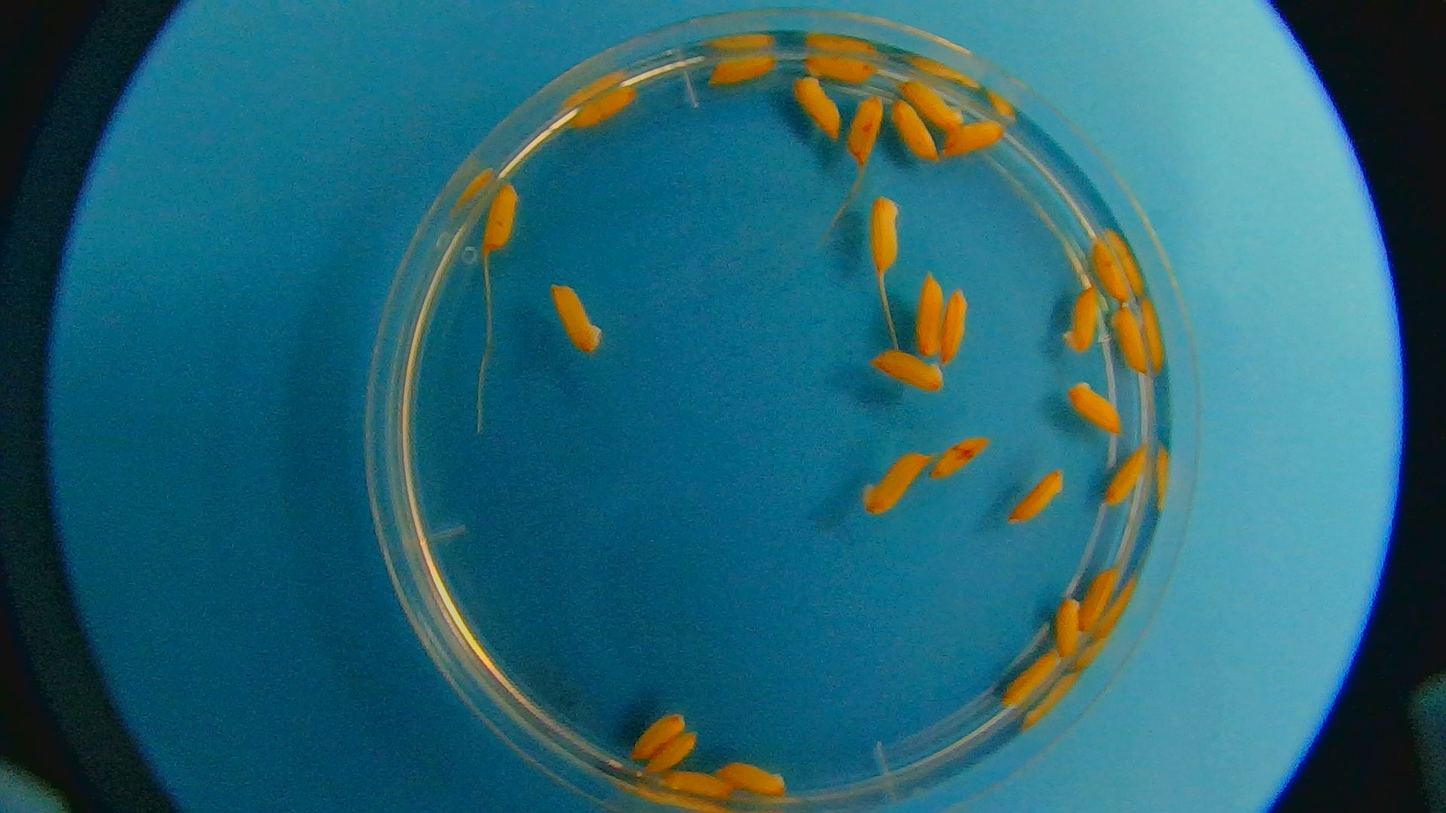no: (862, 447, 930, 518), (548, 282, 606, 354), (865, 344, 948, 394), (900, 77, 966, 133), (1002, 647, 1060, 708), (1064, 380, 1123, 437), (893, 95, 943, 161), (1108, 301, 1150, 378), (1009, 467, 1063, 525), (794, 75, 845, 134), (928, 437, 993, 483), (1106, 439, 1151, 504), (572, 83, 640, 126), (1060, 285, 1102, 354), (1078, 565, 1121, 632), (941, 118, 1007, 158), (480, 184, 517, 254), (1092, 238, 1133, 301), (870, 196, 902, 273), (847, 95, 886, 156), (717, 764, 789, 797), (807, 52, 881, 82), (633, 717, 685, 758), (941, 289, 969, 364), (917, 269, 942, 352), (709, 56, 773, 88), (649, 733, 699, 770), (1056, 595, 1083, 663), (660, 770, 727, 797)
